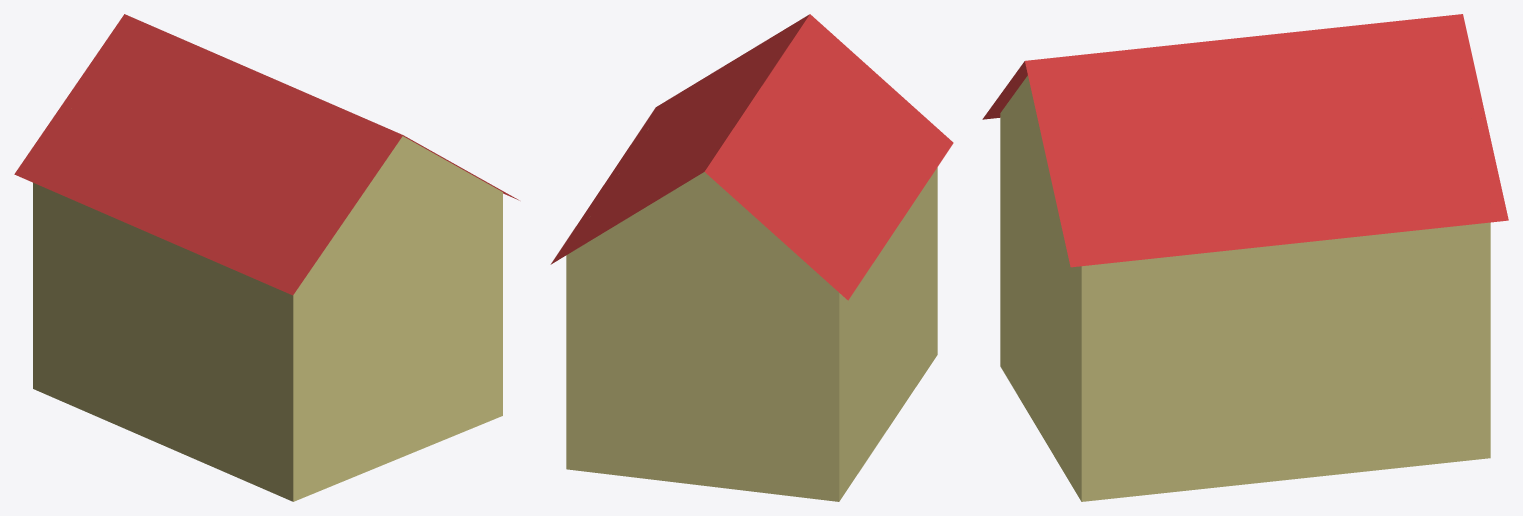
3 renders of one model, left to right at view 1: azimuth 30°, elevation 25°; view 2: azimuth 150°, elevation 25°; view 3: azimuth 270°, elevation 25°, orthographic. The views are drawn at different scales.
Size of the model in its own units: 15.26 by 17.46 by 13.62.
